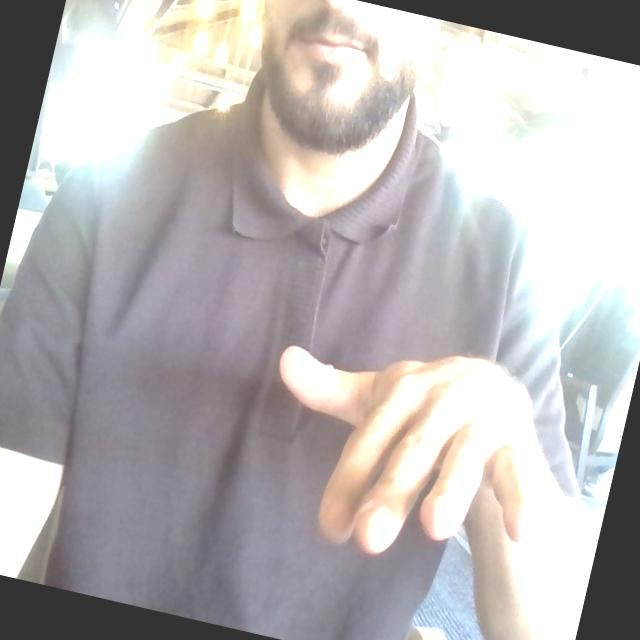Hand: (280, 347, 550, 553)
